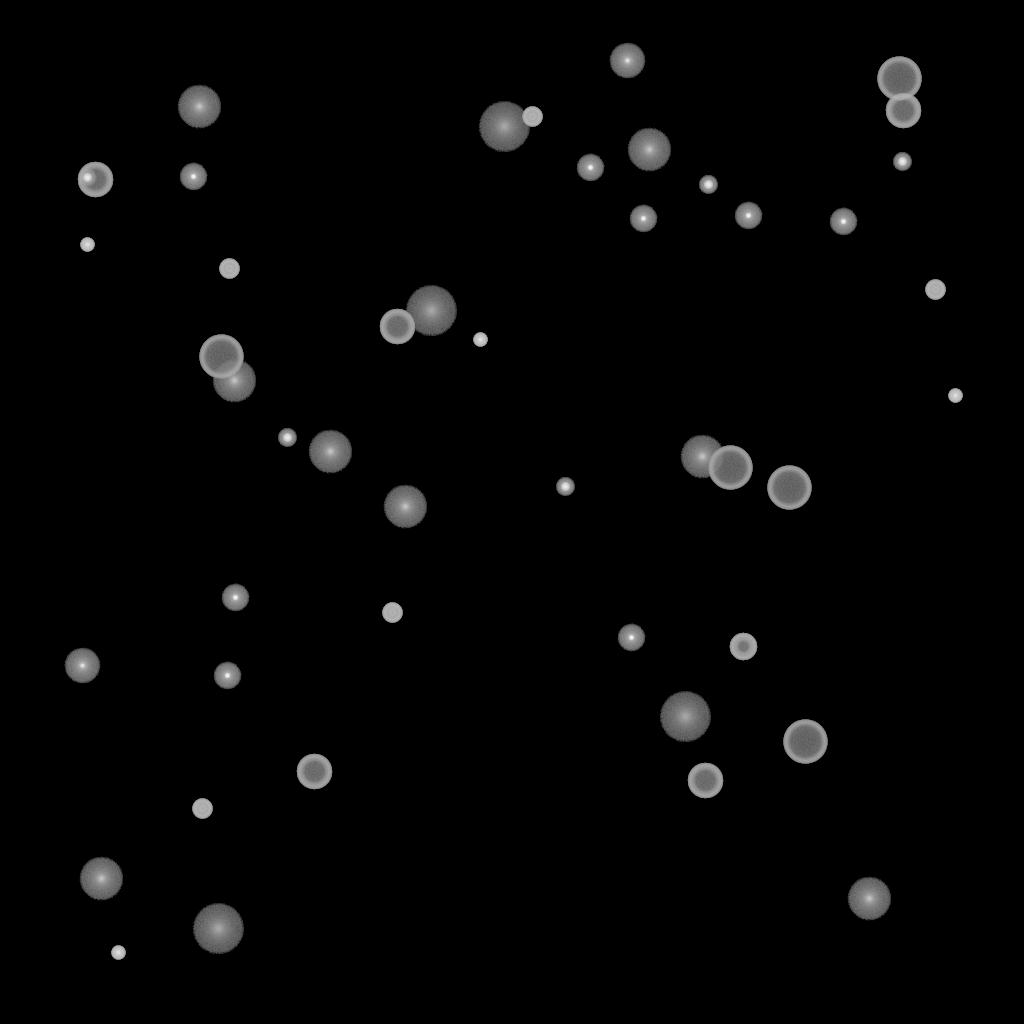depth:-10: (617, 624, 645, 652), (576, 154, 604, 182), (829, 208, 857, 236), (213, 662, 241, 690), (734, 202, 762, 230), (179, 163, 207, 191), (221, 584, 249, 612), (629, 205, 657, 233)
depth:-20: (699, 176, 717, 194), (78, 169, 96, 187), (893, 153, 911, 171), (556, 478, 574, 496), (278, 429, 296, 447)
depth:-30: (473, 333, 487, 347), (948, 389, 962, 403), (80, 238, 94, 252), (111, 946, 125, 960)
depth:-40: (219, 259, 239, 279), (925, 280, 945, 300), (522, 107, 542, 127), (192, 799, 212, 819), (382, 603, 402, 623)
depth:-50: (729, 633, 757, 661)
depth:-60: (379, 309, 415, 345), (77, 162, 113, 198), (885, 93, 921, 129), (296, 754, 332, 790), (687, 763, 723, 799)
depth:-70: (877, 57, 921, 101), (767, 466, 811, 510), (708, 446, 752, 490), (783, 720, 827, 764), (199, 335, 243, 379)
depth:0: (609, 43, 645, 79), (64, 648, 100, 684)
depth:10: (627, 128, 671, 172), (847, 877, 891, 921), (308, 430, 352, 474), (79, 857, 123, 901), (383, 485, 427, 529), (680, 435, 724, 479), (212, 359, 256, 403), (177, 85, 221, 129)
depth:20: (192, 904, 244, 954), (659, 692, 711, 742), (405, 286, 457, 336), (478, 102, 530, 152)
